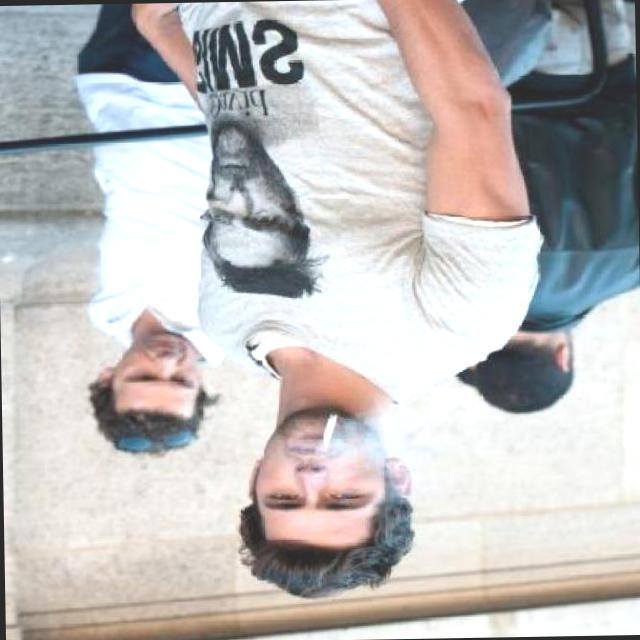smoke: (309, 408, 343, 458)
